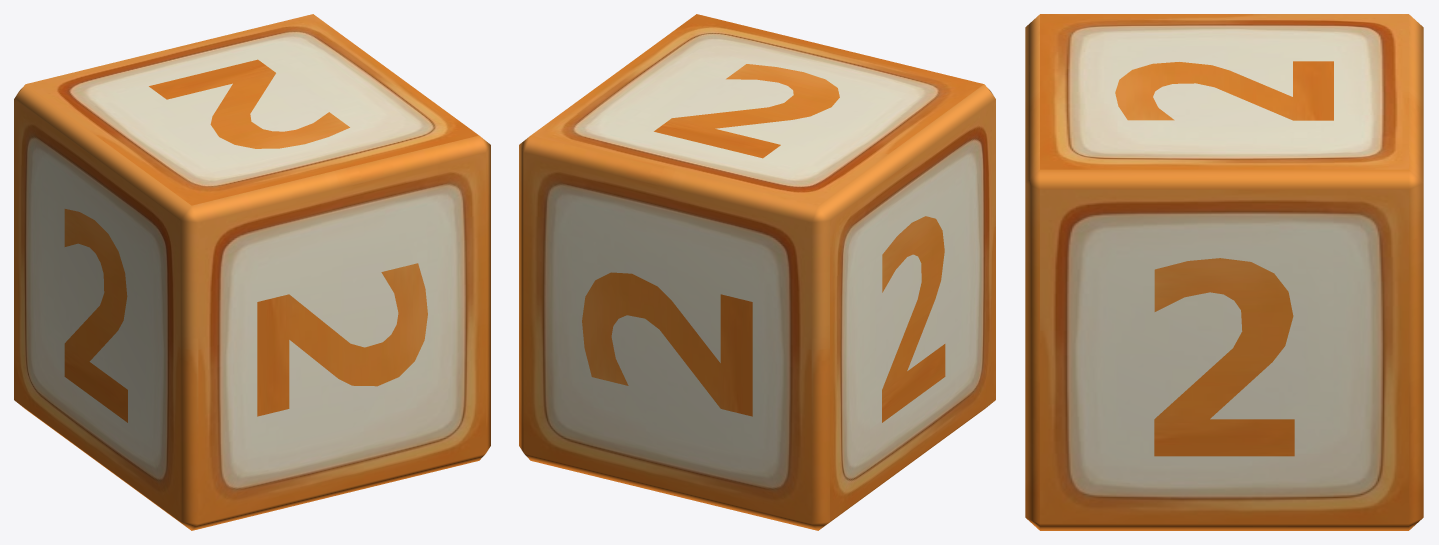
3 views of the same model, side by side, from view 1: azimuth 30°, elevation 25°; view 2: azimuth 150°, elevation 25°; view 3: azimuth 270°, elevation 25° (orthographic). The views are drawn at different scales.
Visible parts, largest first — view 1: Cube2; view 2: Cube2; view 3: Cube2.
Boxes of the visible parts, box(x1,y1,x2,y2) form: Cube2: box(14, 14, 490, 530); Cube2: box(519, 14, 995, 530); Cube2: box(1025, 14, 1423, 530).
Size of what is drawn, in the model's own units: 0.513 by 0.513 by 0.513.
Materials: 1 (1 with a texture image).
